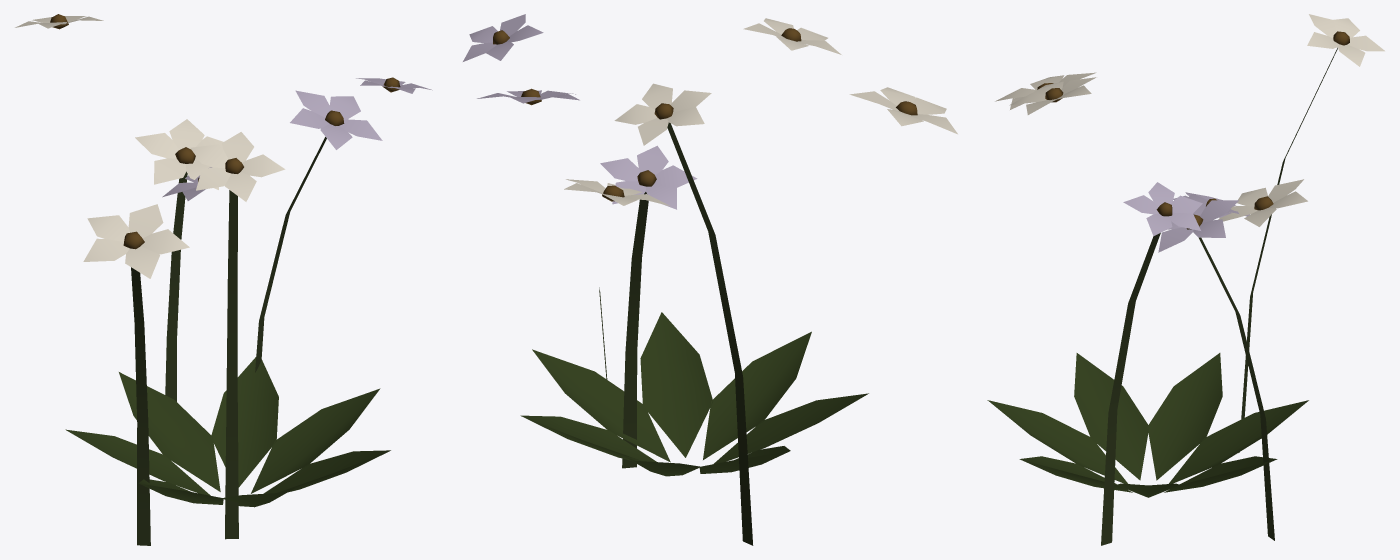
File: flowers_pale.glb
3 views of the same model, side by side, from view 1: azimuth 30°, elevation 25°; view 2: azimuth 150°, elevation 25°; view 3: azimuth 270°, elevation 25° (orthographic). The views are drawn at different scales.
Visible parts, largest first — view 1: FlowersPale_mesh; view 2: FlowersPale_mesh; view 3: FlowersPale_mesh.
Boxes of the visible parts, box(x1,y1,x2,y2) form: FlowersPale_mesh: box(15, 14, 432, 545); FlowersPale_mesh: box(463, 14, 957, 545); FlowersPale_mesh: box(987, 14, 1384, 545).
Bounding box in the file's own units: 0.3308 × 0.3497 × 0.2896.
